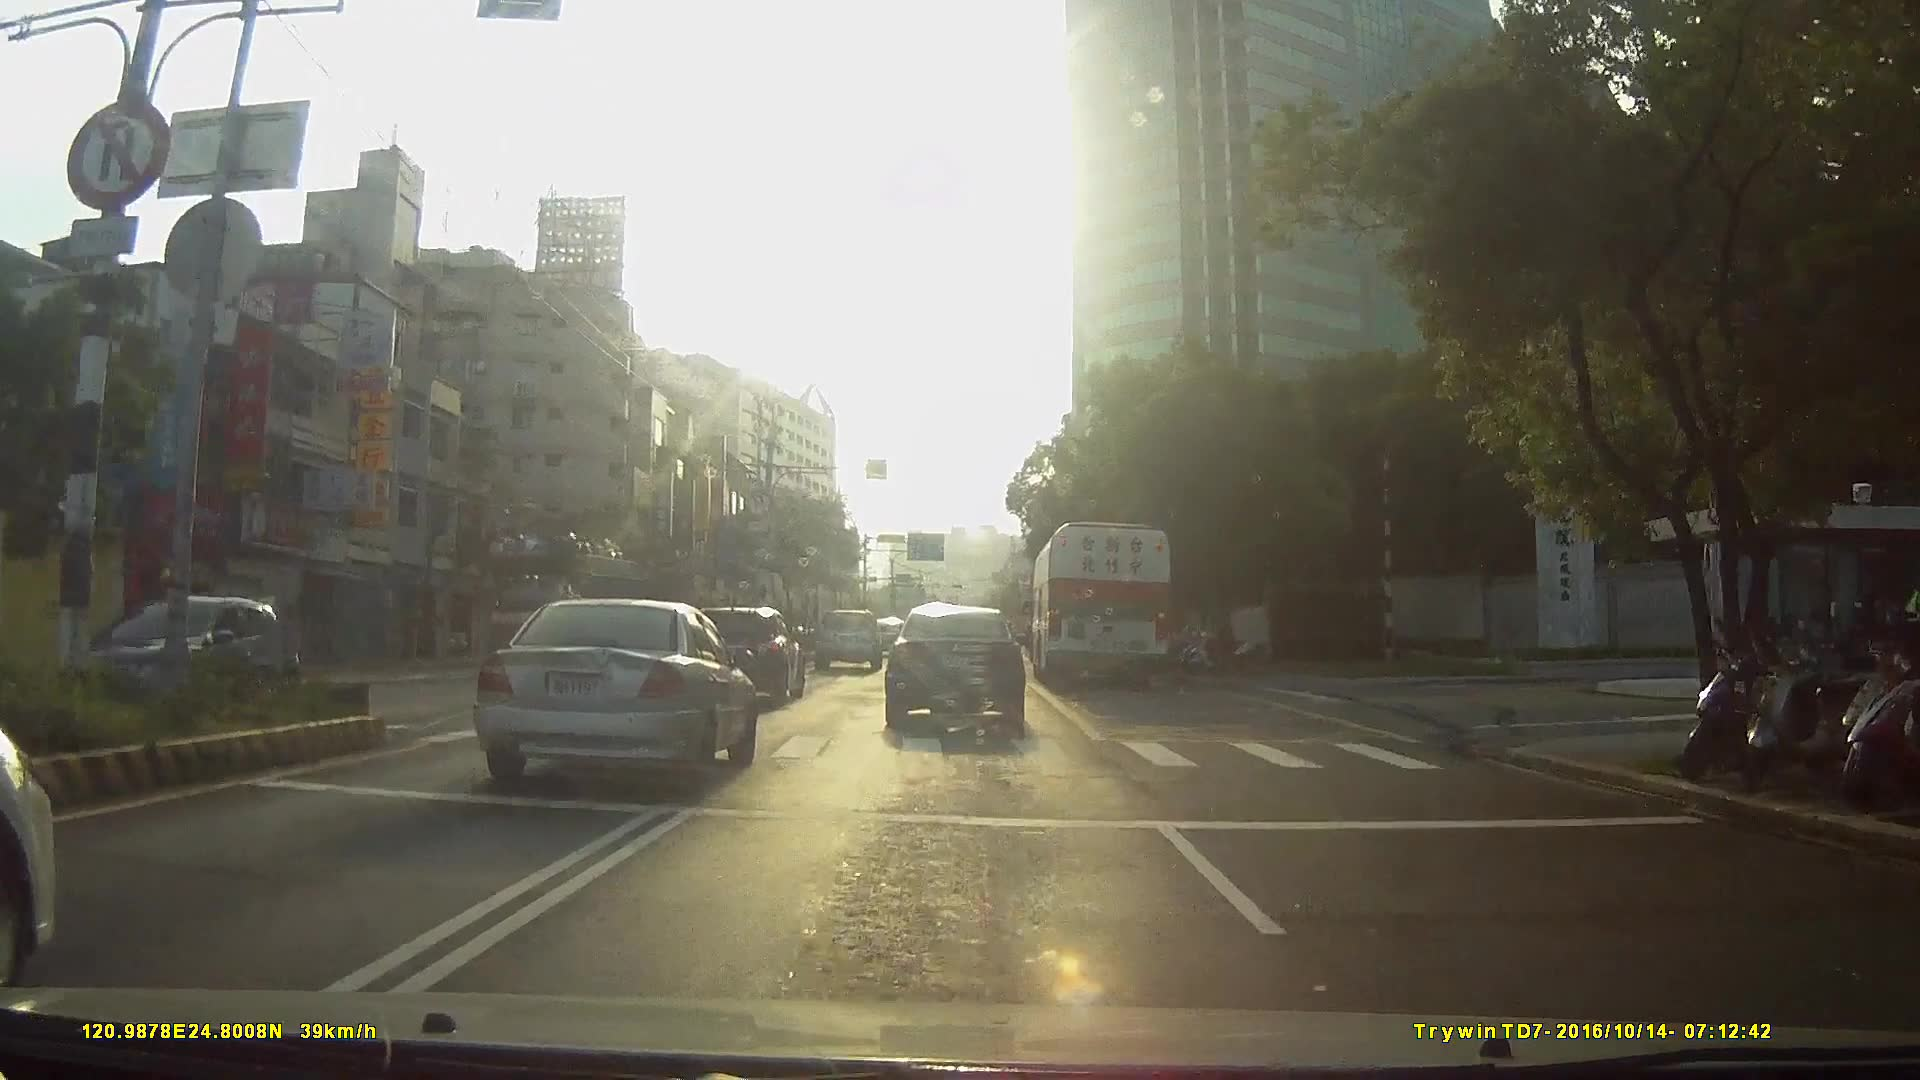vehicle: (463, 596, 756, 794), (75, 591, 310, 713), (1029, 518, 1174, 690), (882, 600, 1025, 732), (684, 607, 804, 708), (814, 607, 882, 673)
